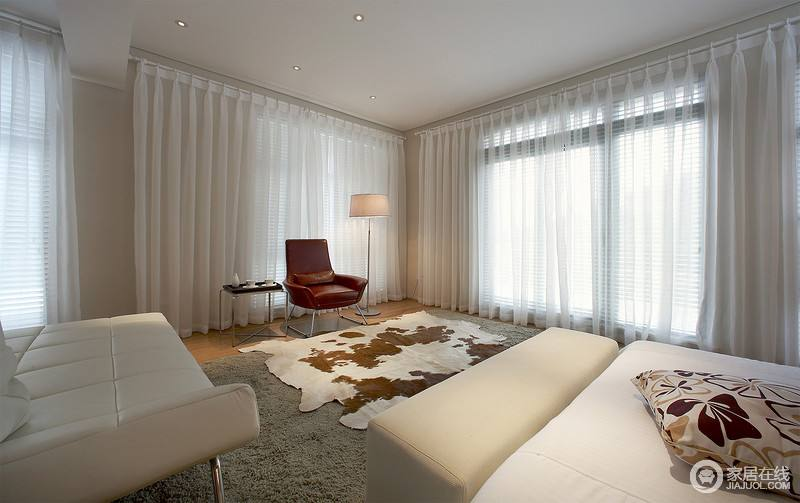床: (369, 329, 799, 500), (2, 325, 259, 501)
灯: (348, 194, 392, 314), (351, 12, 368, 25), (172, 19, 189, 31), (288, 64, 304, 76), (364, 93, 379, 105)
